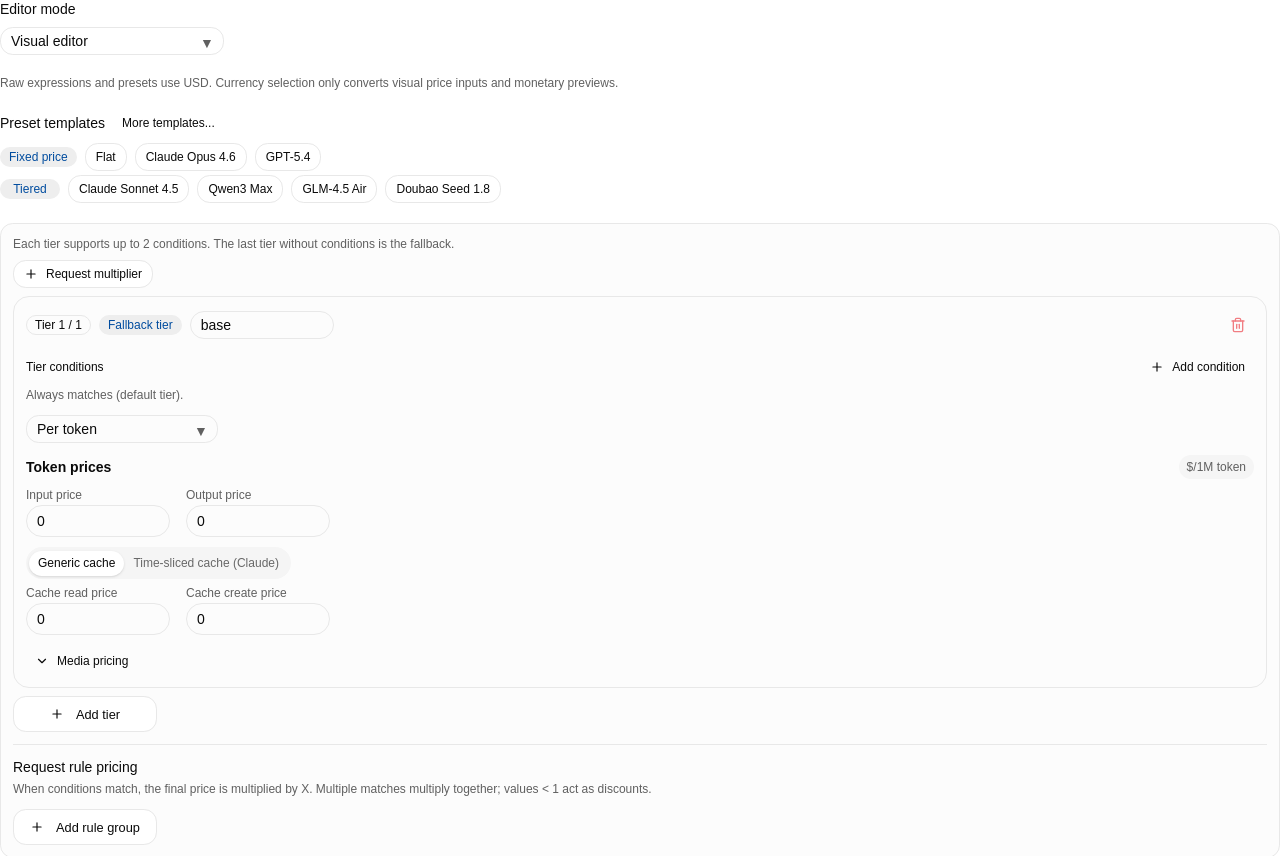
Test: visual time billing editor › seeds video resolution tiers priced per second from a preset
Click the button "More templates...": coordinates (168, 123) top-left (113, 111), bottom-right (224, 135)
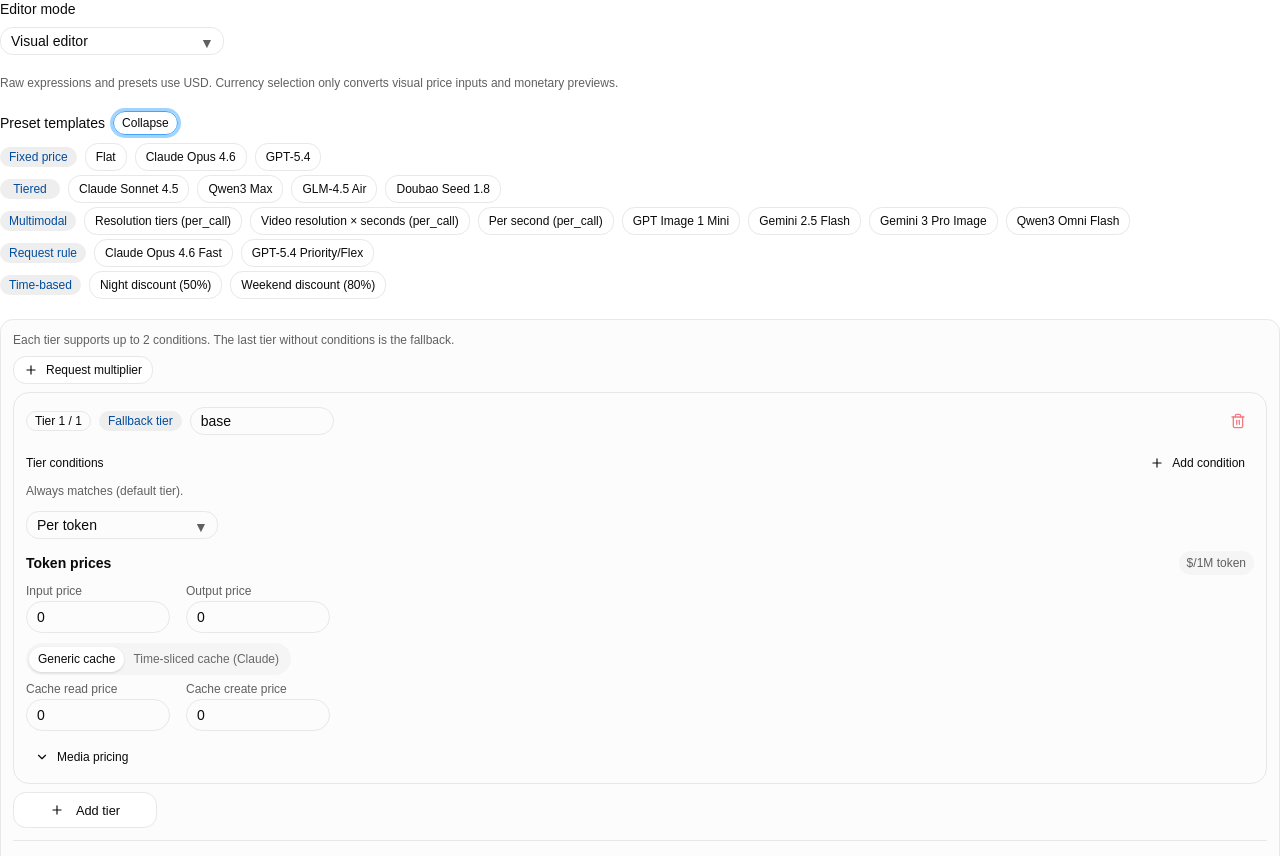
Click the button "Video resolution × seconds (per_call)": coordinates (360, 221) top-left (250, 207), bottom-right (470, 235)
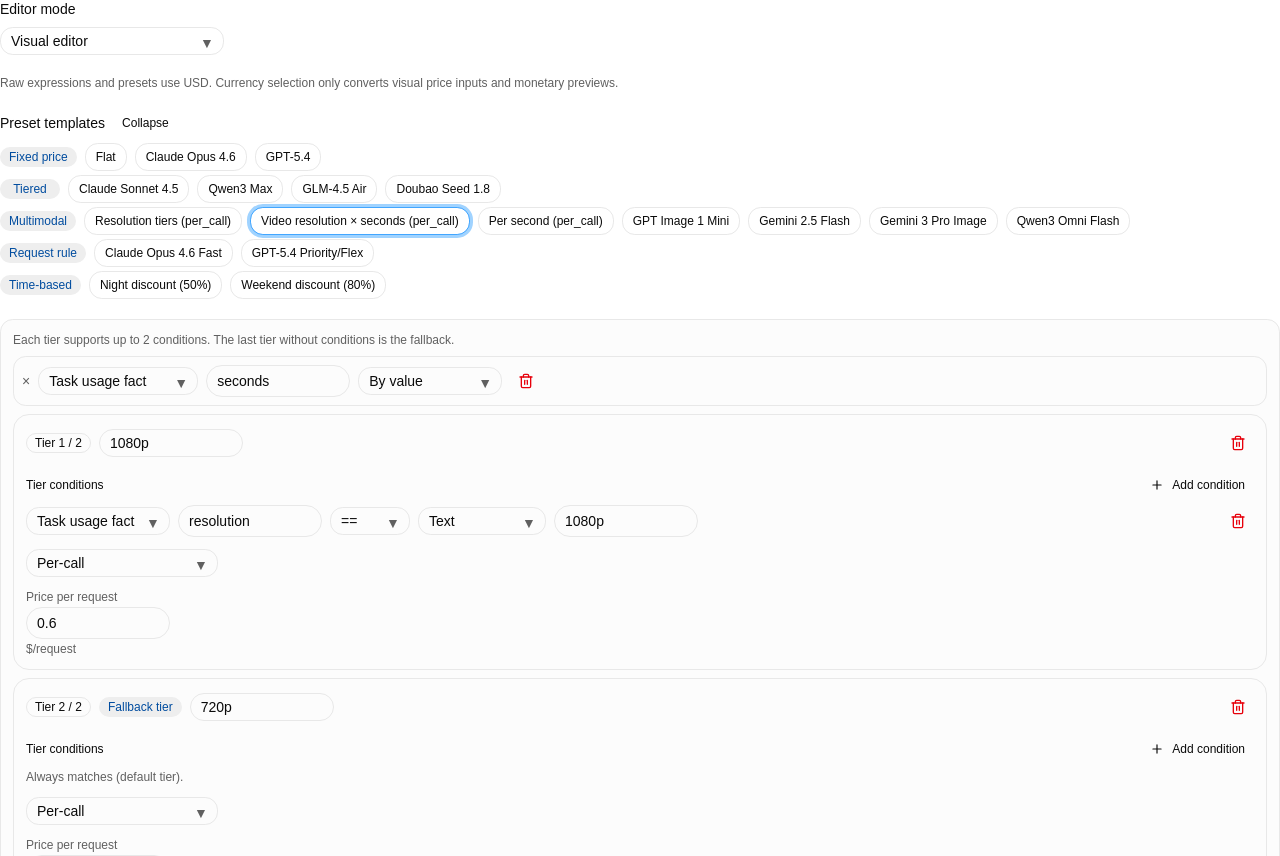
Now the 1st field named "Request field path" holds "seconds", box top-left (206, 365), bottom-right (350, 397)
